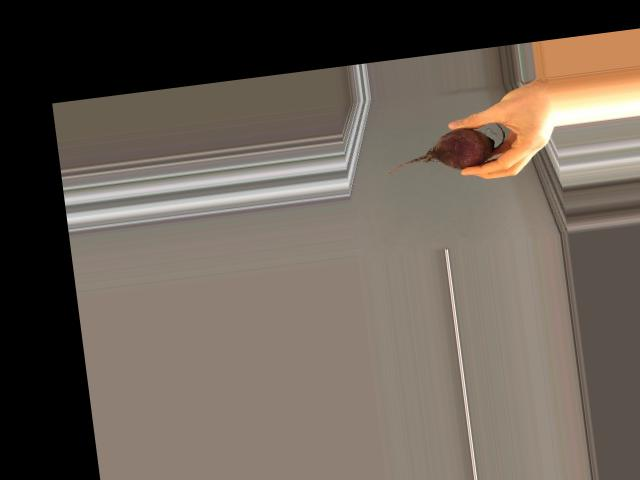beet: (377, 122, 507, 178)
